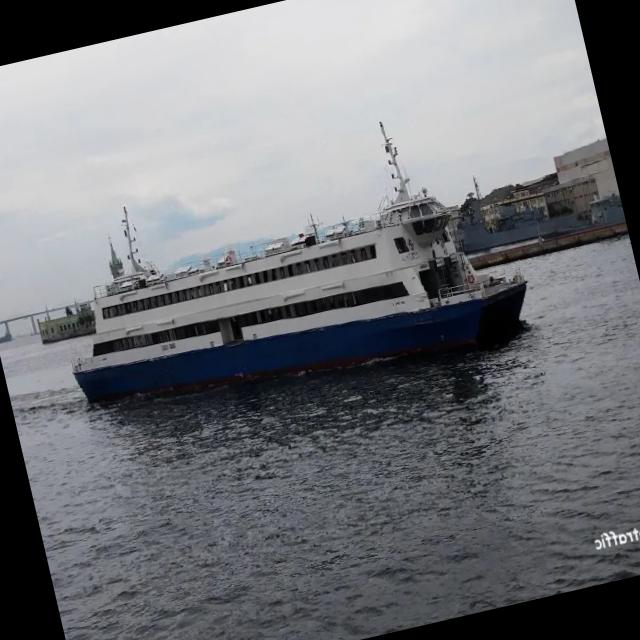Passenger: (73, 122, 526, 401)
